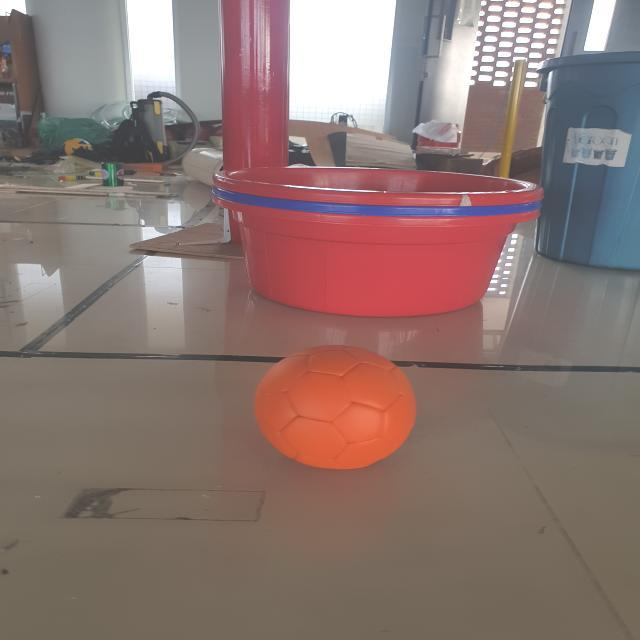bola: (248, 336, 425, 474)
